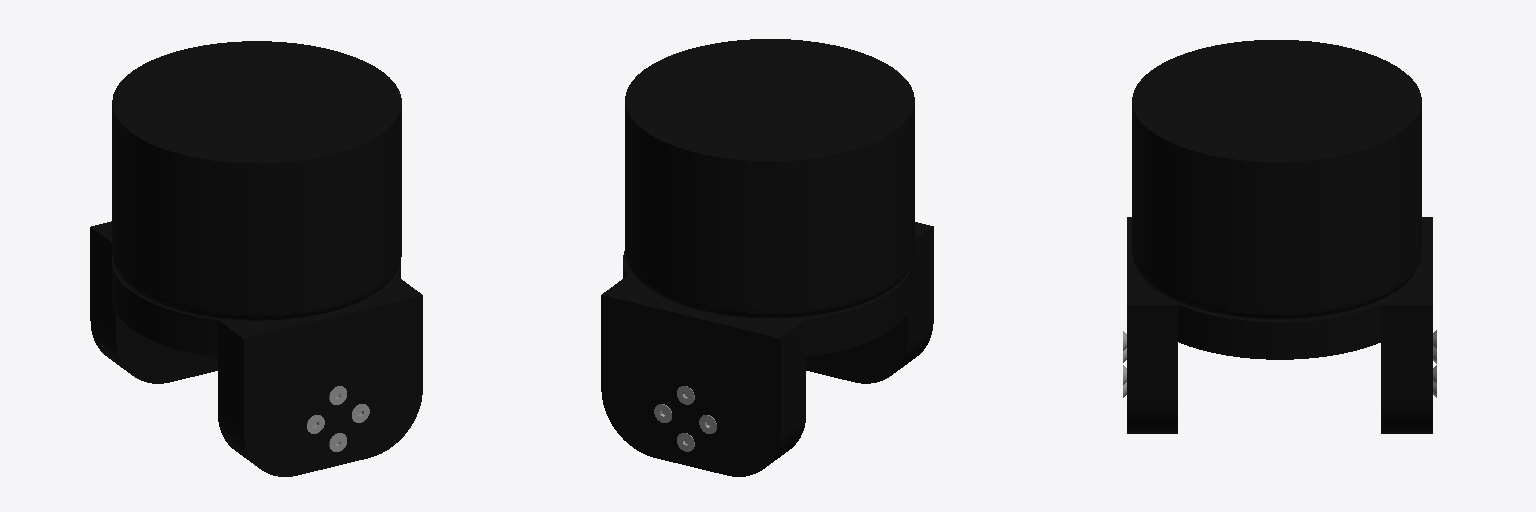
The picture shows the model from 3 angles: view 1: azimuth 30°, elevation 25°; view 2: azimuth 150°, elevation 25°; view 3: azimuth 270°, elevation 25°; orthographic projection.
Visible parts, largest first — view 1: pilar base, Component13, Component11, Component12; view 2: pilar base, Component12, Component11, Component13; view 3: pilar base, Component11, Component13, Component12.
Part boxes in pixels (x1,y1,x2,y2): pilar base: (112, 41, 401, 320); Component13: (218, 277, 422, 476); Component11: (90, 221, 422, 375); Component12: (90, 231, 217, 383); pilar base: (625, 39, 914, 317); Component12: (601, 296, 805, 476); Component11: (601, 222, 933, 375); Component13: (806, 223, 933, 383); pilar base: (1132, 40, 1421, 318); Component11: (1127, 217, 1432, 359); Component13: (1127, 217, 1177, 433); Component12: (1381, 305, 1432, 433).
Bounding box in the file's own units: 0.0702 × 0.0826 × 0.0761.